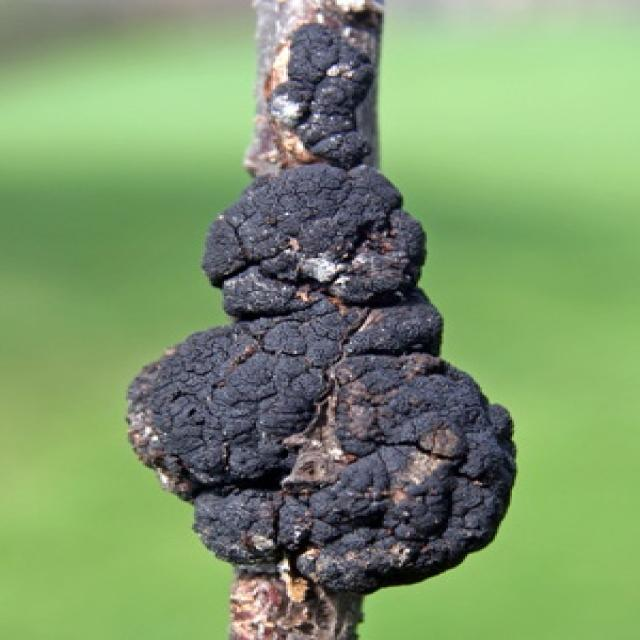Black_knot: (121, 0, 520, 595)
